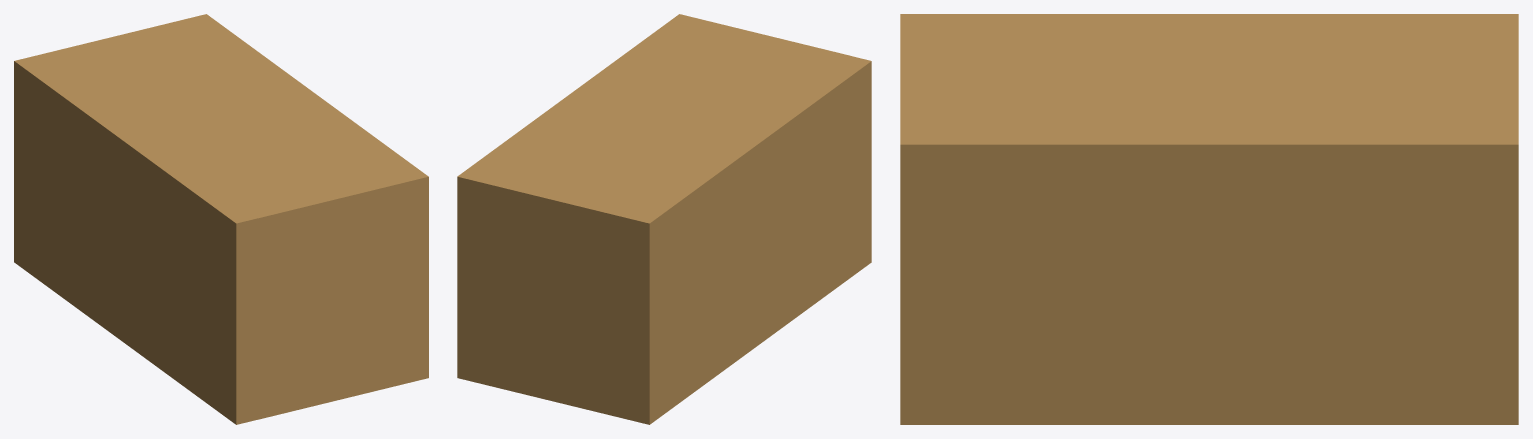
3 views of the same model, side by side, from view 1: azimuth 30°, elevation 25°; view 2: azimuth 150°, elevation 25°; view 3: azimuth 270°, elevation 25° (orthographic). The views are drawn at different scales.
Parts seen in each view (by area): view 1: GAP-29-R-king_stud-p2; view 2: GAP-29-R-king_stud-p2; view 3: GAP-29-R-king_stud-p2.
Part boxes in pixels (box(x1,y1,x2,y2)): GAP-29-R-king_stud-p2: box(14, 14, 428, 424); GAP-29-R-king_stud-p2: box(457, 14, 871, 424); GAP-29-R-king_stud-p2: box(900, 14, 1518, 424).
Bounding box in the file's own units: 0.045 × 0.045 × 0.09.
